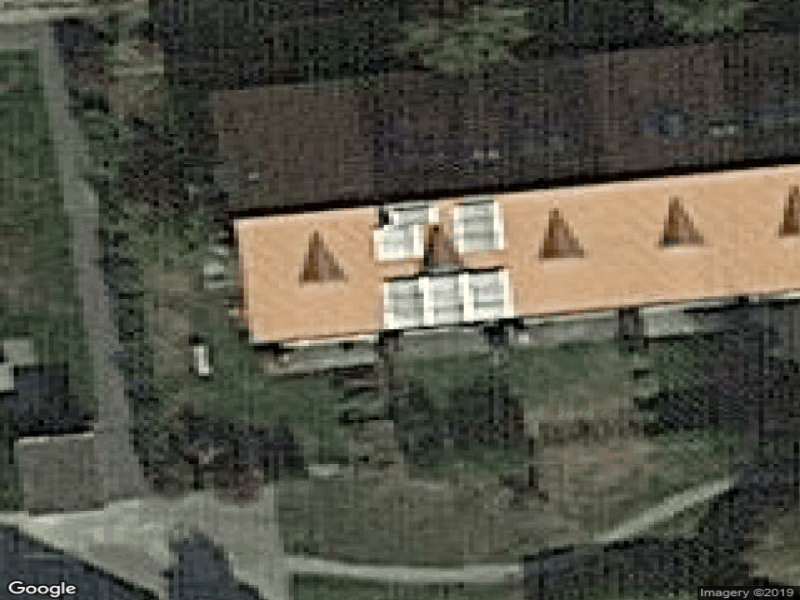pv: (376, 200, 519, 327)
